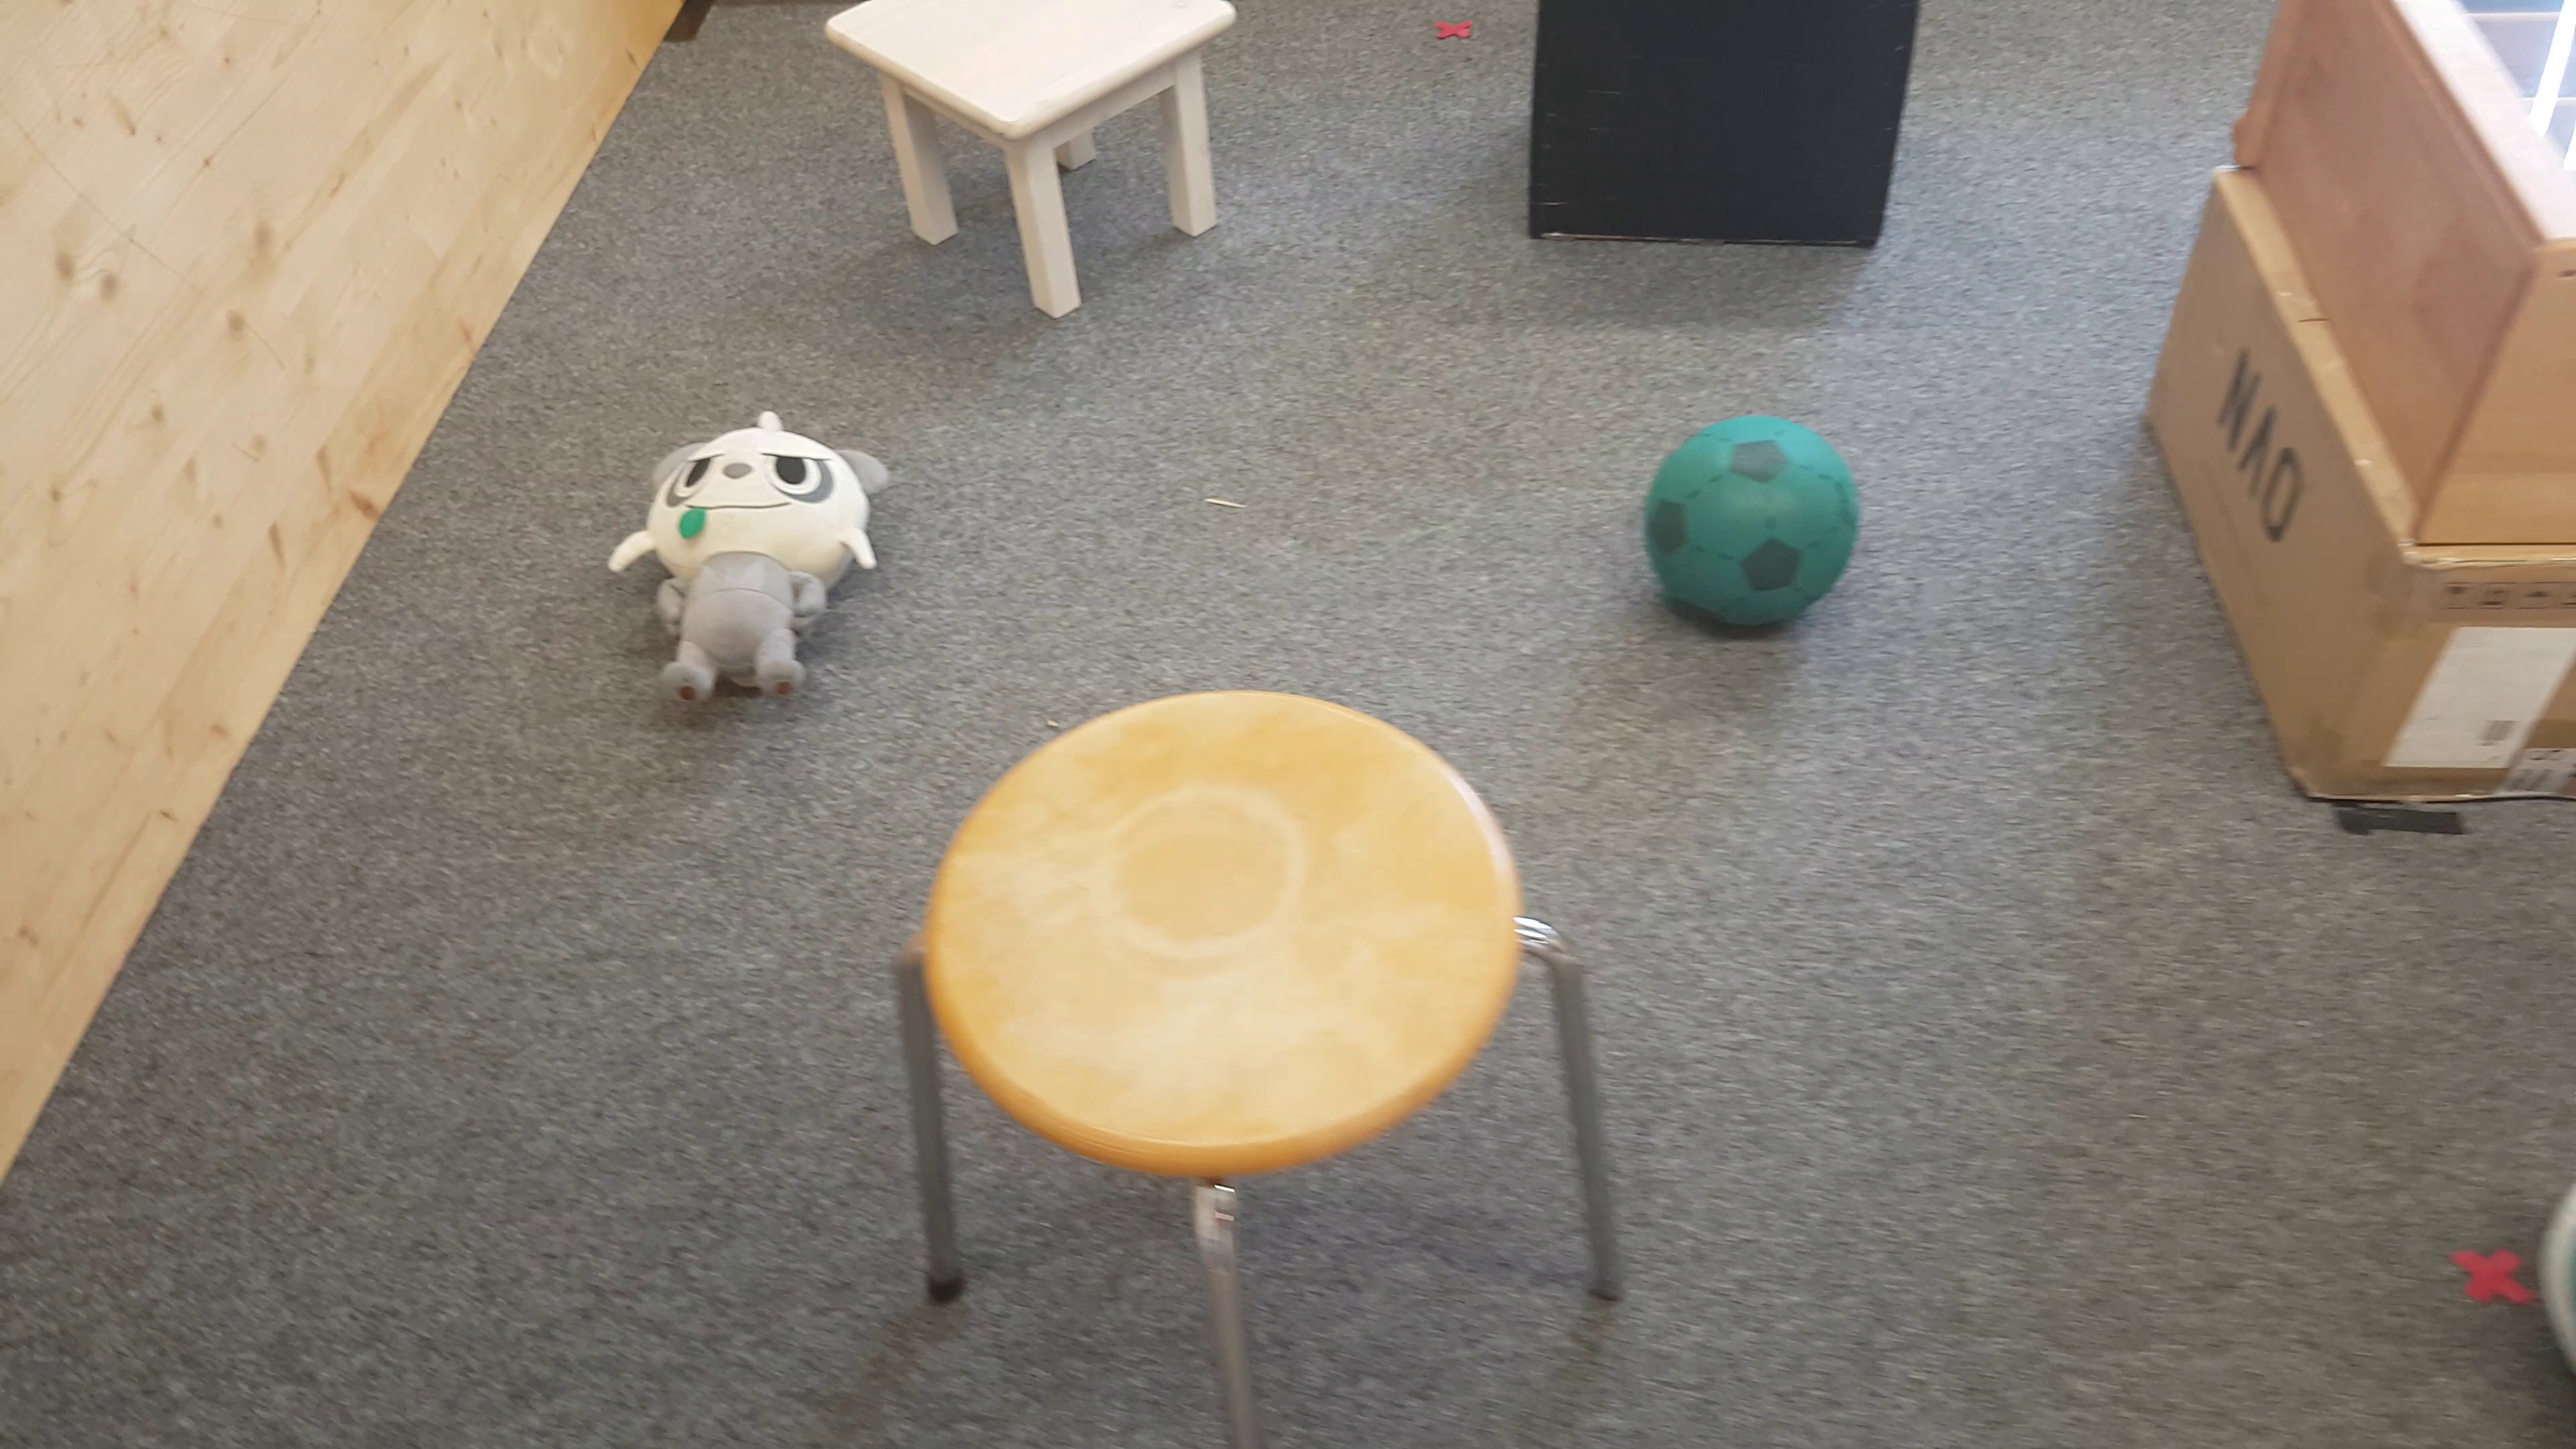grasp: (607, 410, 895, 711)
kick: (1647, 416, 1863, 635), (2548, 1192, 2576, 1297)
push: (1541, 9, 1916, 251)
